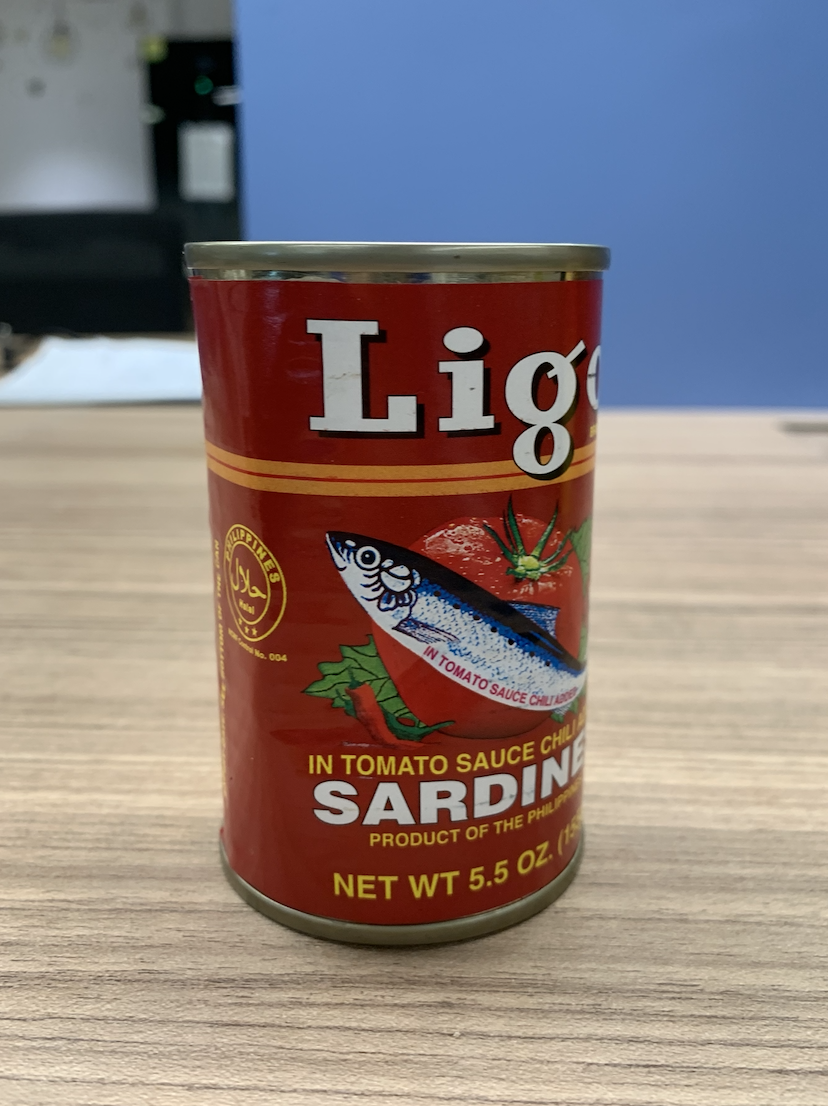sardines_100g-199g: (220, 296, 590, 901)
